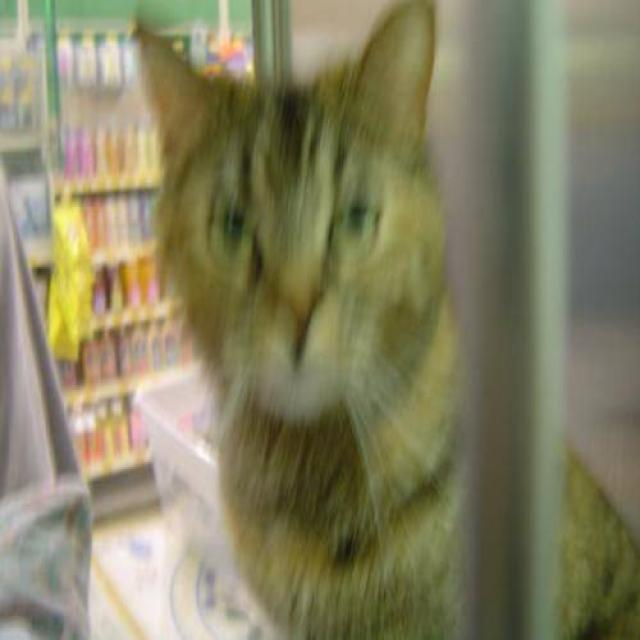Cat: (133, 8, 470, 446)
